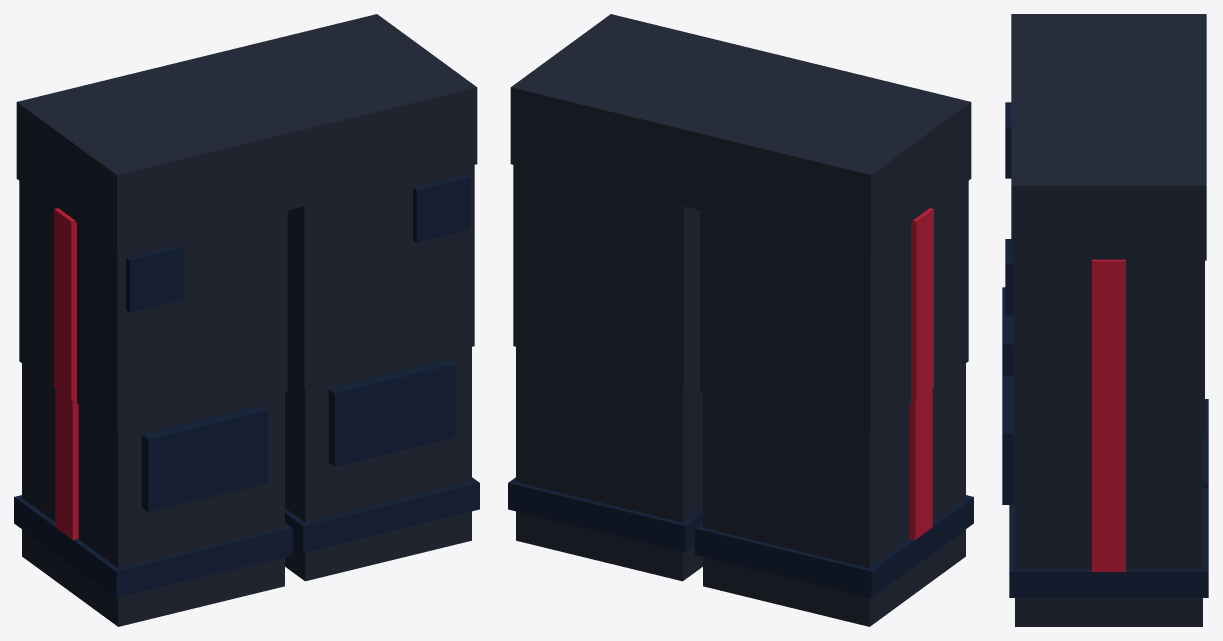
The model's file is Pantalon.fbx.
3 views of the same model, side by side, from view 1: azimuth 30°, elevation 25°; view 2: azimuth 150°, elevation 25°; view 3: azimuth 270°, elevation 25° (orthographic). The views are drawn at different scales.
Visible parts, largest first — view 1: Cuerpo_LowerTorso, Cuerpo_RightUpperLeg, Cuerpo_LeftUpperLeg, Cuerpo_RightLowerLeg, Cuerpo_LeftLowerLeg, Pantalon_RodilleraLeft, Pantalon_RodilleraRight, Pantalon_BotamangaRight, Pantalon_BotamangaLeft, Pantalon_CosturaRight, Pantalon_Costura2Right, Pantalon_BolsilloLeft (+1 smaller); view 2: Cuerpo_LowerTorso, Cuerpo_RightUpperLeg, Cuerpo_RightLowerLeg, Cuerpo_LeftUpperLeg, Cuerpo_LeftLowerLeg, Pantalon_BotamangaRight, Pantalon_BotamangaLeft, Pantalon_CosturaRight, Pantalon_Costura2Right; view 3: Cuerpo_LowerTorso, Cuerpo_LeftUpperLeg, Cuerpo_LeftLowerLeg, Pantalon_BotamangaLeft, Pantalon_CosturaLeft, Pantalon_Costura2Left, Pantalon_RodilleraLeft, Pantalon_RodilleraRight, Pantalon_BolsilloLeft, Pantalon_BolsilloRight, Pantalon_BotamangaRight.
Part boxes in pixels (x1=…): Cuerpo_LowerTorso: x1=16, y1=14, x2=477, y2=251; Cuerpo_RightUpperLeg: x1=19, y1=181, x2=287, y2=433; Cuerpo_LeftUpperLeg: x1=287, y1=165, x2=474, y2=387; Cuerpo_RightLowerLeg: x1=22, y1=363, x2=284, y2=626; Cuerpo_LeftLowerLeg: x1=285, y1=347, x2=471, y2=581; Pantalon_RodilleraLeft: x1=328, y1=359, x2=455, y2=466; Pantalon_RodilleraRight: x1=141, y1=405, x2=268, y2=512; Pantalon_BotamangaRight: x1=14, y1=495, x2=292, y2=597; Pantalon_BotamangaLeft: x1=285, y1=477, x2=479, y2=552; Pantalon_CosturaRight: x1=54, y1=208, x2=76, y2=399; Pantalon_Costura2Right: x1=55, y1=388, x2=78, y2=539; Pantalon_BolsilloLeft: x1=413, y1=174, x2=470, y2=242; Cuerpo_LowerTorso: x1=510, y1=14, x2=971, y2=251; Cuerpo_RightUpperLeg: x1=700, y1=181, x2=968, y2=433; Cuerpo_RightLowerLeg: x1=703, y1=363, x2=965, y2=626; Cuerpo_LeftUpperLeg: x1=513, y1=165, x2=700, y2=387; Cuerpo_LeftLowerLeg: x1=516, y1=347, x2=702, y2=581; Pantalon_BotamangaRight: x1=695, y1=495, x2=973, y2=597; Pantalon_BotamangaLeft: x1=508, y1=477, x2=702, y2=552; Pantalon_CosturaRight: x1=911, y1=208, x2=933, y2=399; Pantalon_Costura2Right: x1=909, y1=388, x2=932, y2=539; Cuerpo_LowerTorso: x1=1011, y1=14, x2=1206, y2=260; Cuerpo_LeftUpperLeg: x1=1013, y1=260, x2=1204, y2=437; Cuerpo_LeftLowerLeg: x1=1015, y1=437, x2=1202, y2=626; Pantalon_BotamangaLeft: x1=1009, y1=488, x2=1208, y2=597; Pantalon_CosturaLeft: x1=1092, y1=259, x2=1125, y2=435; Pantalon_Costura2Left: x1=1092, y1=435, x2=1125, y2=571; Pantalon_RodilleraLeft: x1=1002, y1=376, x2=1014, y2=504; Pantalon_RodilleraRight: x1=1002, y1=287, x2=1013, y2=376; Pantalon_BolsilloLeft: x1=1005, y1=239, x2=1013, y2=315; Pantalon_BolsilloRight: x1=1005, y1=102, x2=1011, y2=178; Pantalon_BotamangaRight: x1=1203, y1=399, x2=1208, y2=487.
Size of the model in its own units: 1.97 by 2.32 by 0.9804.
